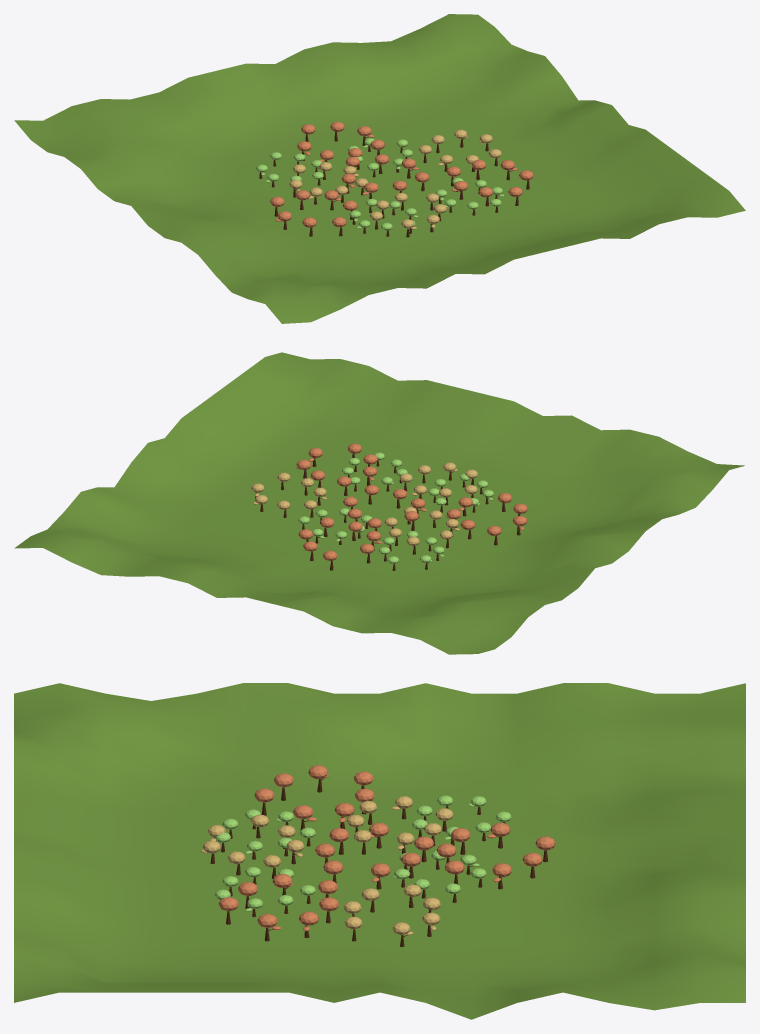
The model's file is Cups and ball Background environment.fbx.
3 renders of one model, top to bottom at view 1: azimuth 30°, elevation 25°; view 2: azimuth 150°, elevation 25°; view 3: azimuth 270°, elevation 25°, orthographic. The views are drawn at different scales.
Visible parts, largest first — view 1: Plane, Cylinder.001, Cylinder.009, Cylinder.005, Cylinder.000, Cylinder.003, Cylinder.006, Cylinder.010, Cylinder.008, Cylinder.004, Cylinder.002, Cylinder.007; view 2: Plane, Cylinder.009, Cylinder.001, Cylinder.000, Cylinder.005, Cylinder.006, Cylinder.003, Cylinder.010, Cylinder.008, Cylinder.004, Cylinder.002, Cylinder.007; view 3: Plane, Cylinder.000, Cylinder.001, Cylinder.005, Cylinder.009, Cylinder.006, Cylinder.010, Cylinder.003, Cylinder.004, Cylinder.008, Cylinder.002, Cylinder.007.
Part boxes in pixels (x1,y1,x2,y2): Plane: (14, 14, 745, 323); Cylinder.001: (446, 160, 533, 206); Cylinder.009: (270, 190, 357, 236); Cylinder.005: (341, 154, 429, 198); Cylinder.000: (297, 121, 384, 166); Cylinder.003: (370, 192, 446, 237); Cylinder.006: (419, 129, 501, 171); Cylinder.010: (289, 162, 368, 204); Cylinder.008: (256, 152, 323, 189); Cylinder.004: (349, 198, 418, 236); Cylinder.002: (435, 177, 504, 215); Cylinder.007: (348, 138, 412, 177); Plane: (14, 352, 744, 654); Cylinder.009: (446, 493, 527, 545); Cylinder.001: (296, 443, 377, 495); Cylinder.000: (298, 517, 382, 570); Cylinder.005: (343, 485, 426, 531); Cylinder.006: (251, 472, 326, 517); Cylinder.003: (399, 462, 477, 505); Cylinder.010: (384, 507, 459, 554); Cylinder.008: (378, 531, 444, 570); Cylinder.004: (428, 473, 493, 512); Cylinder.002: (342, 452, 407, 491); Cylinder.007: (298, 508, 372, 544); Plane: (14, 683, 745, 1019); Cylinder.000: (436, 823, 555, 889); Cylinder.001: (219, 874, 338, 941); Cylinder.005: (315, 823, 434, 889); Cylinder.009: (254, 765, 374, 830); Cylinder.006: (343, 884, 440, 946); Cylinder.010: (346, 796, 453, 854); Cylinder.003: (201, 814, 304, 878); Cylinder.004: (215, 809, 315, 859); Cylinder.008: (412, 795, 511, 845); Cylinder.002: (215, 866, 315, 917); Cylinder.007: (393, 850, 486, 902).
Bounding box in the file's own units: 10240 × 486 × 10240.
